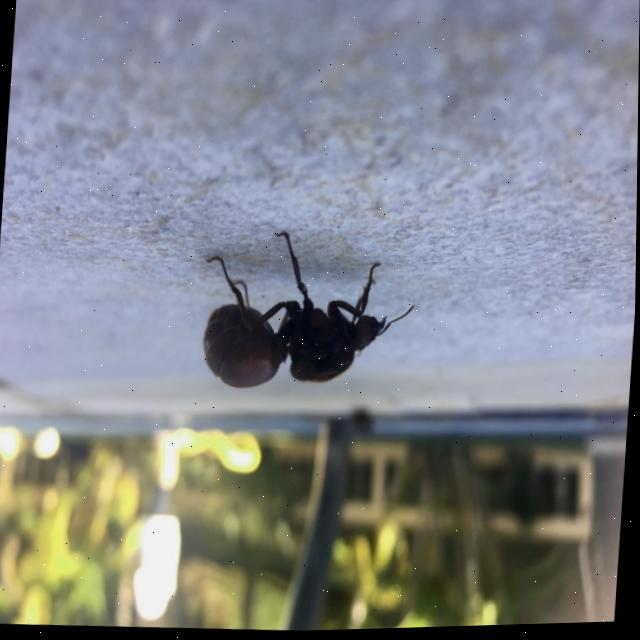Alive-Female-Dealate: (197, 226, 420, 399)
